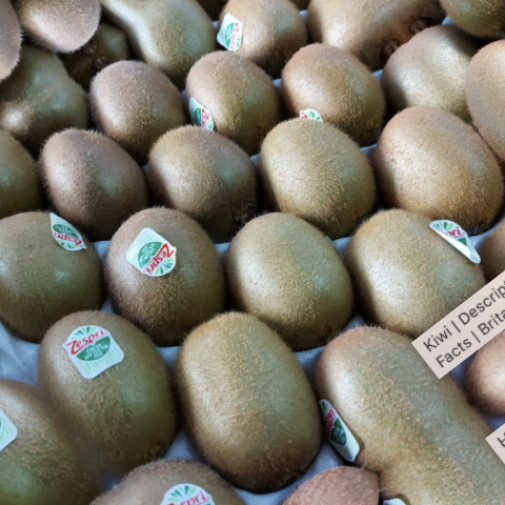kiwi: (115, 267, 367, 505), (8, 271, 214, 485), (263, 286, 471, 493), (308, 162, 505, 377), (339, 73, 505, 285), (225, 80, 407, 269), (4, 92, 179, 274), (82, 182, 252, 359), (251, 17, 409, 180), (158, 23, 309, 176), (125, 89, 273, 239)
